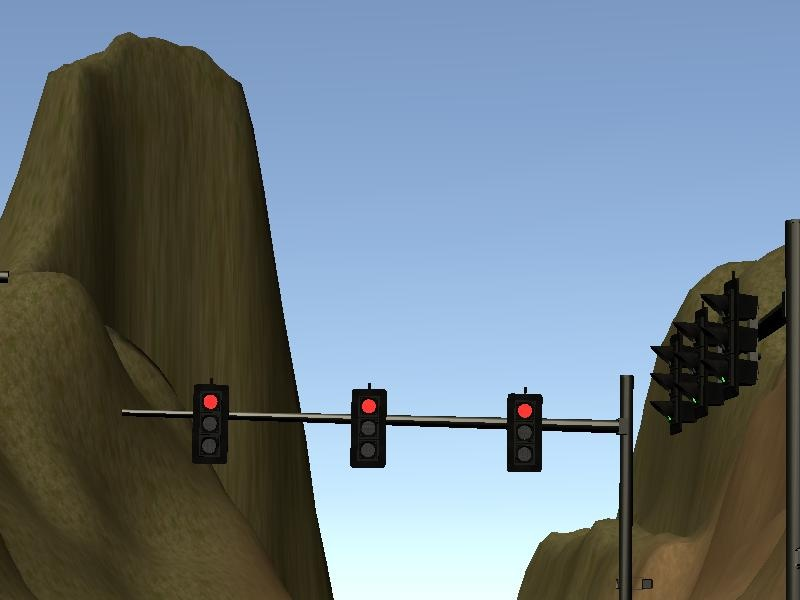RED: (350, 390, 387, 467), (505, 394, 542, 471), (192, 385, 227, 461)
